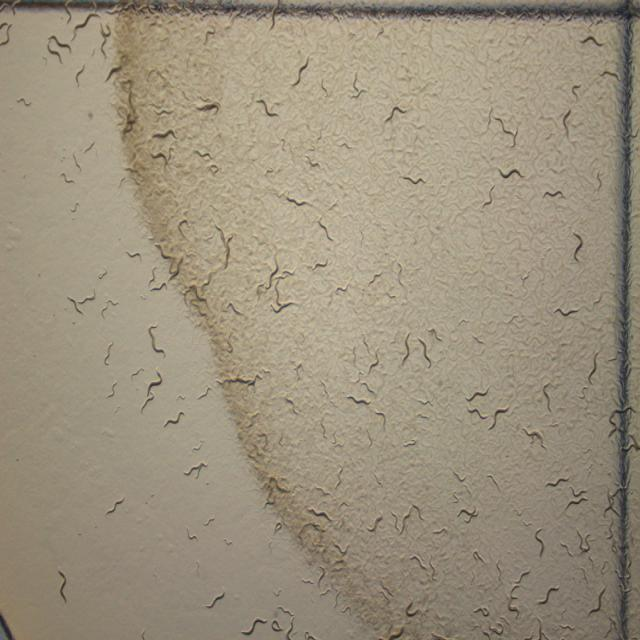filarid: (508, 567, 530, 613), (256, 257, 279, 296), (141, 369, 162, 411), (399, 504, 424, 535), (609, 405, 632, 436), (216, 225, 232, 268), (522, 427, 546, 448), (588, 587, 606, 615), (149, 325, 165, 356), (241, 617, 268, 635), (151, 147, 172, 169), (489, 408, 509, 430), (536, 586, 560, 604), (184, 460, 208, 478), (206, 587, 225, 609), (418, 339, 431, 368), (164, 410, 185, 427), (319, 217, 334, 240), (534, 527, 545, 558), (465, 388, 489, 402), (621, 434, 640, 451), (588, 352, 598, 384), (106, 498, 125, 514), (165, 410, 184, 426), (270, 302, 295, 314), (401, 332, 410, 365), (366, 514, 382, 532), (482, 185, 494, 208), (535, 529, 545, 556), (542, 382, 551, 411), (578, 531, 590, 552), (499, 168, 524, 178), (545, 477, 569, 487), (559, 541, 574, 557), (555, 307, 578, 317), (104, 342, 114, 365), (468, 407, 487, 419), (59, 569, 66, 601), (68, 298, 82, 314), (308, 259, 328, 270), (574, 234, 582, 261), (376, 410, 386, 430), (459, 509, 476, 520), (402, 176, 425, 184), (60, 172, 75, 184), (286, 198, 308, 206), (195, 150, 212, 160), (81, 291, 95, 303), (186, 528, 198, 541), (73, 153, 81, 172), (544, 190, 564, 197), (369, 273, 381, 284), (204, 515, 215, 527), (126, 251, 141, 259), (149, 267, 156, 284), (308, 157, 319, 167), (151, 282, 166, 289), (559, 624, 575, 630), (474, 551, 484, 560), (200, 387, 210, 396), (274, 522, 282, 533), (392, 512, 398, 526), (85, 142, 94, 151), (70, 202, 78, 212), (212, 165, 219, 173), (224, 540, 231, 544)
